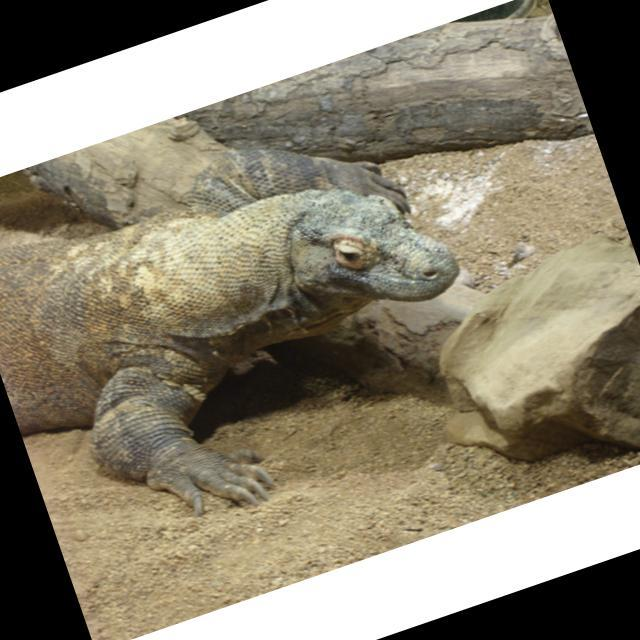KomodoDragon: (0, 73, 508, 567)
